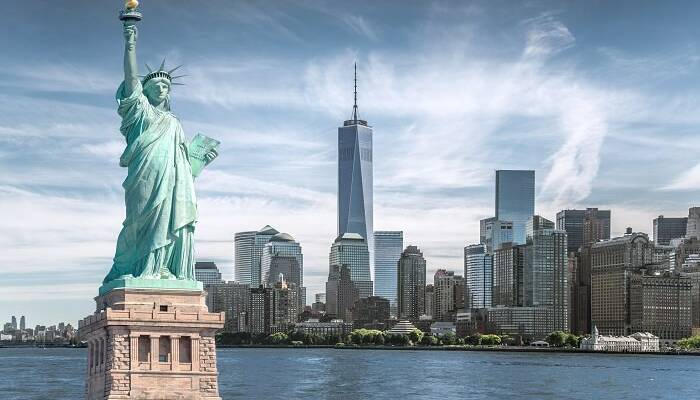person-like: (90, 1, 227, 282)
